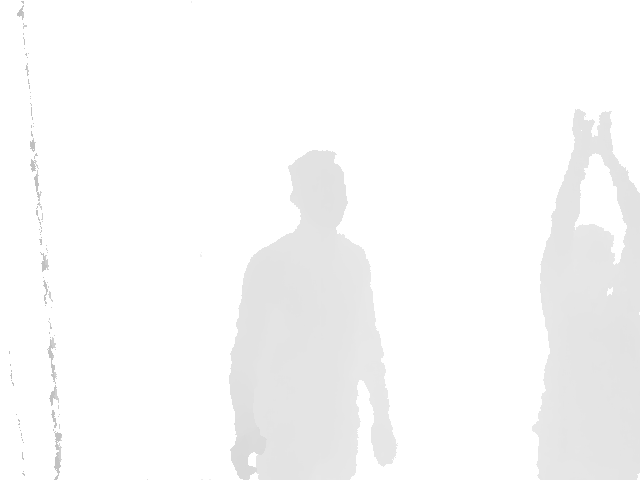hand: (571, 106, 594, 157), (595, 108, 616, 158)
head: (287, 149, 348, 232), (569, 224, 615, 296)
person: (227, 149, 399, 480), (532, 106, 640, 480)
